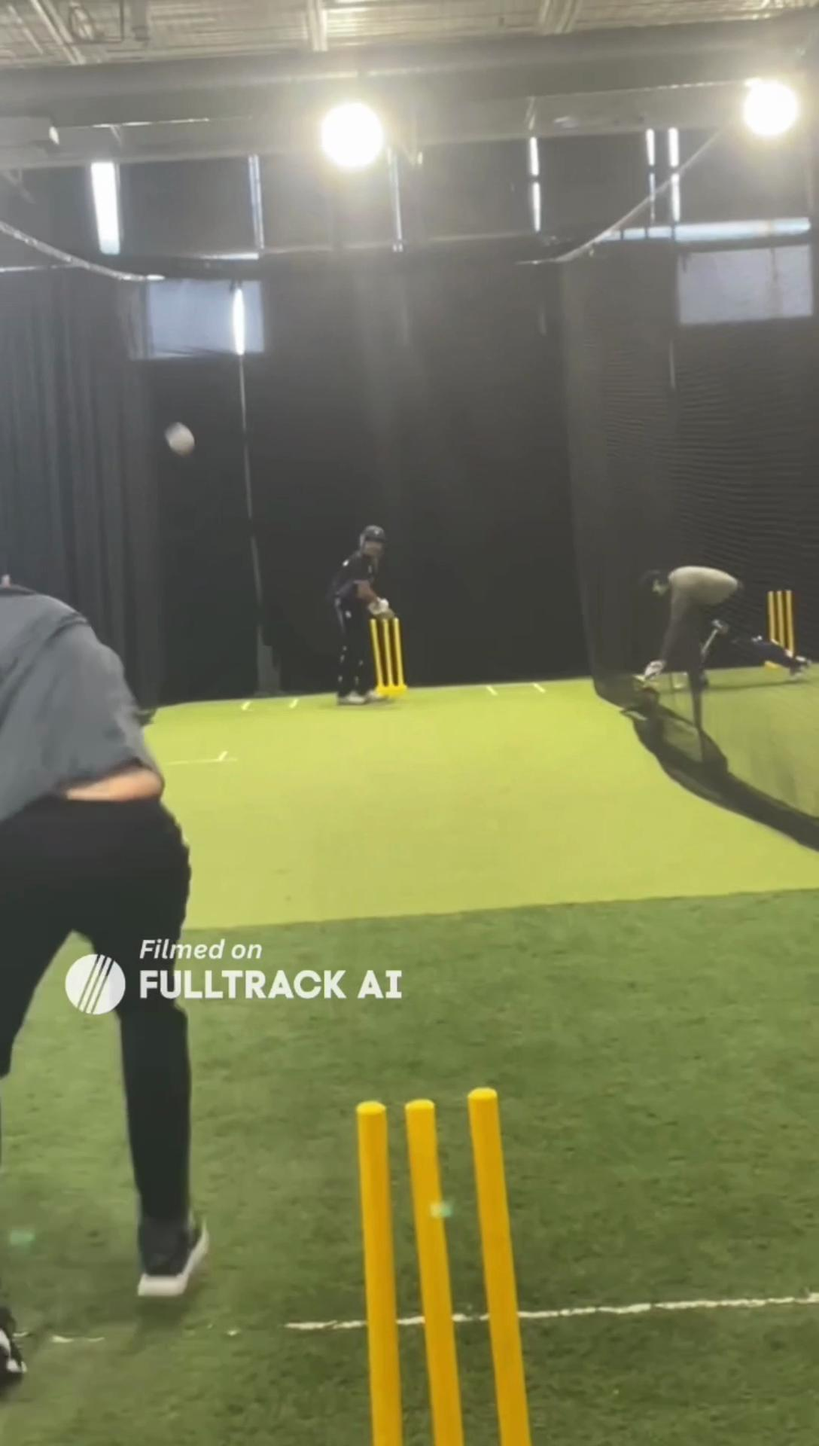ball: (143, 405, 216, 475)
